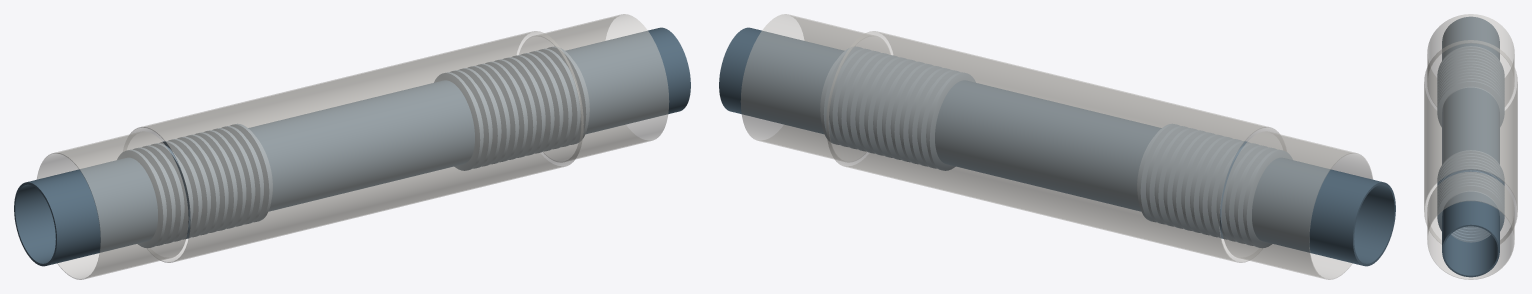
The model's file is 2ppu-dn250-L2320-D273-k-o442.glb.
3 renders of one model, left to right at view 1: azimuth 30°, elevation 25°; view 2: azimuth 150°, elevation 25°; view 3: azimuth 270°, elevation 25°, orthographic. The views are drawn at different scales.
Visible parts, largest first — view 1: uslovno_kozhuh_ppu, uslovno_obolochka_l, uslovno_obolochka_r, prokladka_silfon_1, prokladka_silfon_2, patrubok_1, patrubok_3, patrubok_4, patrubok_2; view 2: uslovno_kozhuh_ppu, uslovno_obolochka_l, uslovno_obolochka_r, prokladka_silfon_1, prokladka_silfon_2, patrubok_1, patrubok_3, patrubok_4, patrubok_2; view 3: uslovno_kozhuh_ppu, patrubok_4, uslovno_obolochka_r, prokladka_silfon_2, uslovno_obolochka_l, prokladka_silfon_1, patrubok_2, patrubok_1, patrubok_3.
Boxes of the visible parts, bbox=[...] form: uslovno_kozhuh_ppu: bbox=[127, 31, 583, 262]; uslovno_obolochka_l: bbox=[37, 131, 188, 279]; uslovno_obolochka_r: bbox=[519, 14, 669, 162]; prokladka_silfon_1: bbox=[117, 123, 272, 248]; prokladka_silfon_2: bbox=[434, 46, 589, 170]; patrubok_1: bbox=[14, 157, 157, 266]; patrubok_3: bbox=[344, 80, 474, 187]; patrubok_4: bbox=[565, 27, 690, 133]; patrubok_2: bbox=[248, 105, 373, 211]; uslovno_kozhuh_ppu: bbox=[826, 31, 1282, 262]; uslovno_obolochka_l: bbox=[1221, 131, 1372, 279]; uslovno_obolochka_r: bbox=[740, 14, 890, 162]; prokladka_silfon_1: bbox=[1137, 123, 1292, 248]; prokladka_silfon_2: bbox=[820, 46, 975, 170]; patrubok_1: bbox=[1252, 157, 1395, 266]; patrubok_3: bbox=[935, 80, 1065, 187]; patrubok_4: bbox=[719, 27, 844, 133]; patrubok_2: bbox=[1036, 105, 1161, 211]; uslovno_kozhuh_ppu: bbox=[1424, 40, 1517, 243]; patrubok_4: bbox=[1442, 191, 1499, 277]; uslovno_obolochka_r: bbox=[1427, 172, 1514, 279]; prokladka_silfon_2: bbox=[1437, 150, 1504, 242]; uslovno_obolochka_l: bbox=[1427, 14, 1514, 106]; prokladka_silfon_1: bbox=[1437, 46, 1504, 126]; patrubok_2: bbox=[1442, 87, 1499, 144]; patrubok_1: bbox=[1442, 16, 1499, 60]; patrubok_3: bbox=[1442, 120, 1499, 164].
Bounding box in the file's own units: 2320 × 442 × 442.
